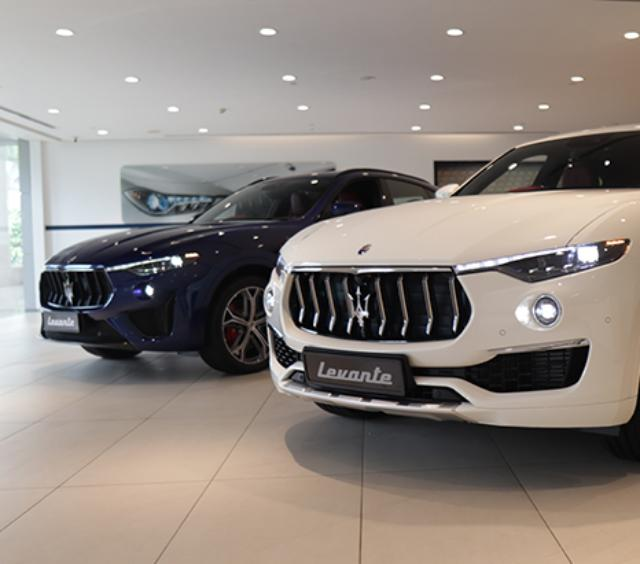maserati: (264, 124, 640, 458), (39, 168, 437, 374)
